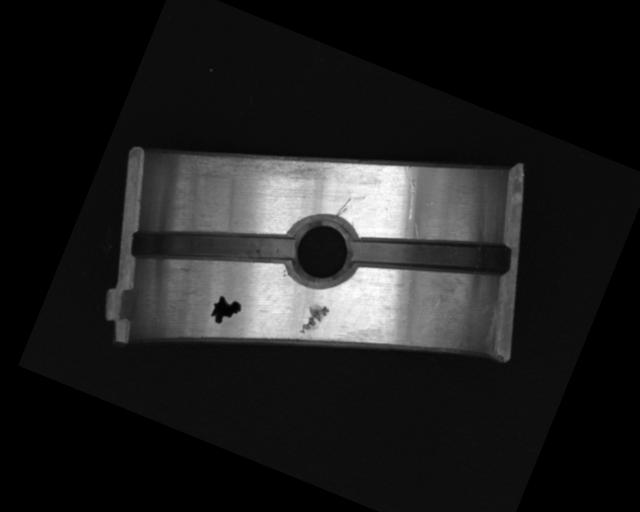blot: (207, 293, 243, 329)
bruise: (298, 299, 330, 339)
gap: (128, 182, 297, 309), (349, 195, 511, 313)
hole: (277, 206, 365, 296)
nick: (387, 164, 431, 221), (333, 194, 352, 220)
scratch: (191, 114, 333, 212)
